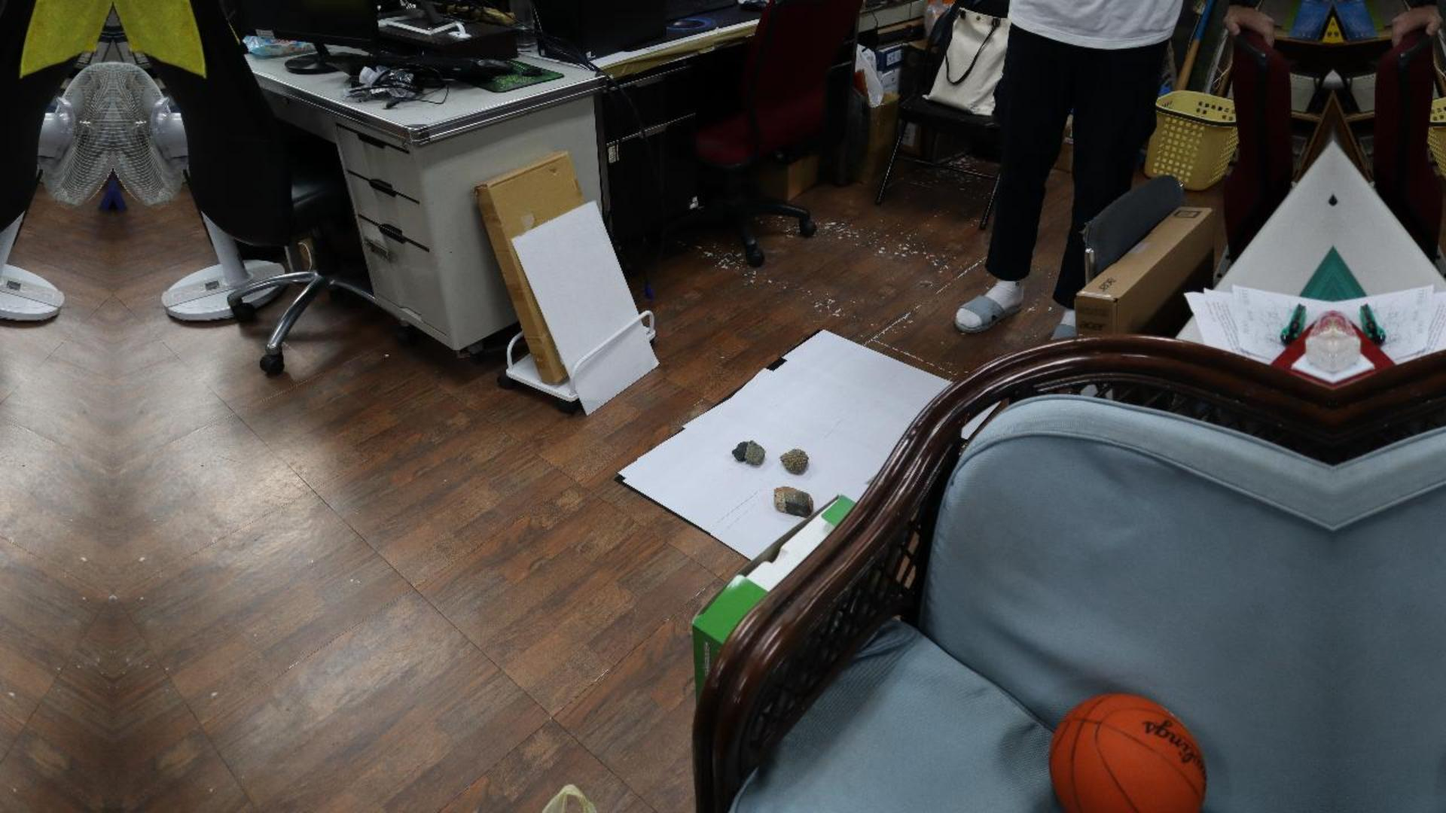rock: (774, 487, 812, 516), (734, 440, 765, 465), (781, 448, 809, 474), (732, 442, 748, 461)
